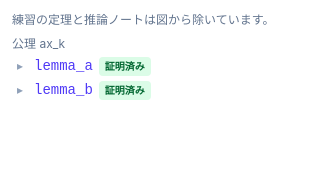
DependencyGraph › fetches a node’s dependencies only when it is expanded, keeping the cycle guard
Expected: the link "lemma_a" is shown, [34,56,93,76]
Step 1. Click the button named "lemma_a の依存関係" → (20,66), box [12,58,28,74]
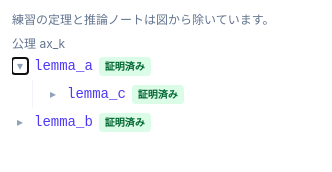
Now the link "lemma_c" is shown, box [67,84,126,104]
